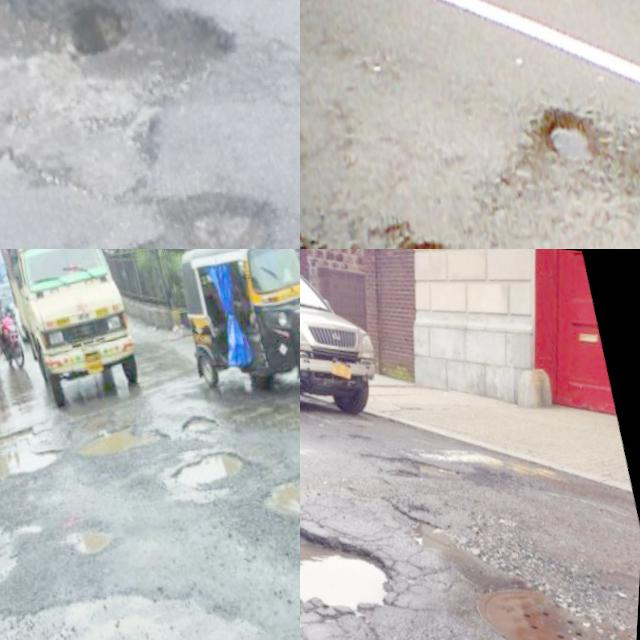Potholes: (0, 0, 300, 249), (300, 405, 492, 640), (492, 0, 640, 248), (71, 375, 269, 529), (0, 545, 279, 640), (448, 513, 640, 640), (403, 383, 568, 525), (300, 153, 538, 249), (33, 461, 160, 589), (233, 369, 300, 578), (0, 380, 86, 529)
